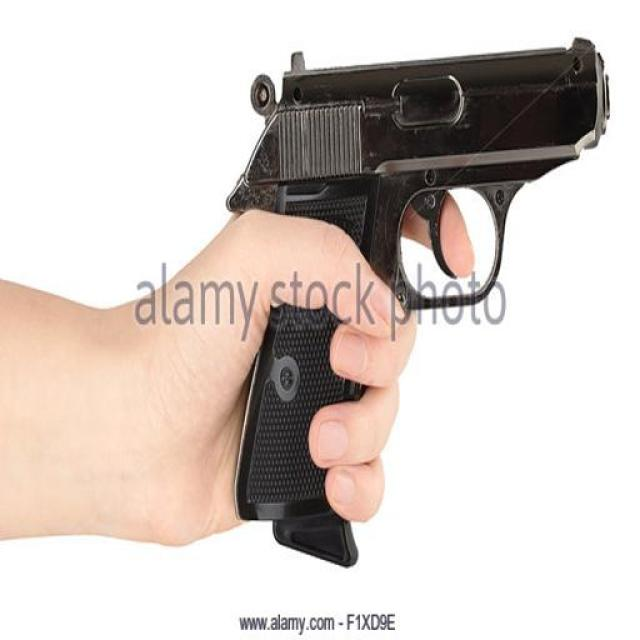pistol: (221, 37, 613, 551)
